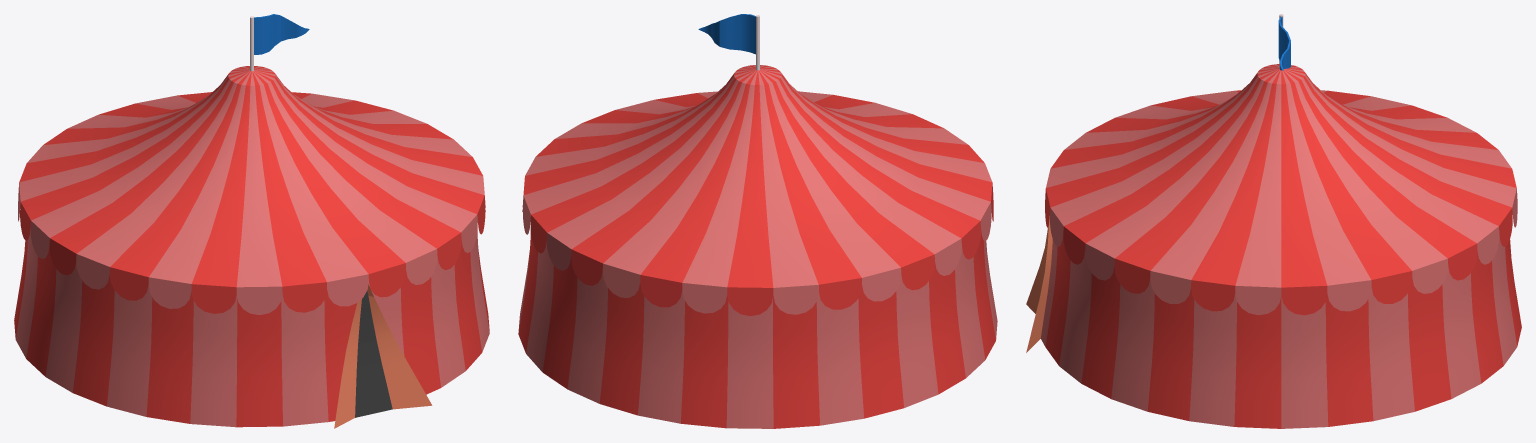
The model's file is circus_tent.gltf.
3 renders of one model, left to right at view 1: azimuth 30°, elevation 25°; view 2: azimuth 150°, elevation 25°; view 3: azimuth 270°, elevation 25°, orthographic.
Visible parts, largest first — view 1: Circle.2374; view 2: Circle.2374; view 3: Circle.2374.
Part boxes in pixels (x1,y1,x2,y2): Circle.2374: (14, 14, 489, 428); Circle.2374: (518, 14, 997, 428); Circle.2374: (1026, 14, 1521, 428).
Size of the model in its own units: 2.31 by 1.66 by 2.38.
1 material, 1 textured.
